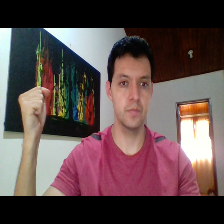9D: (14, 80, 57, 146)
